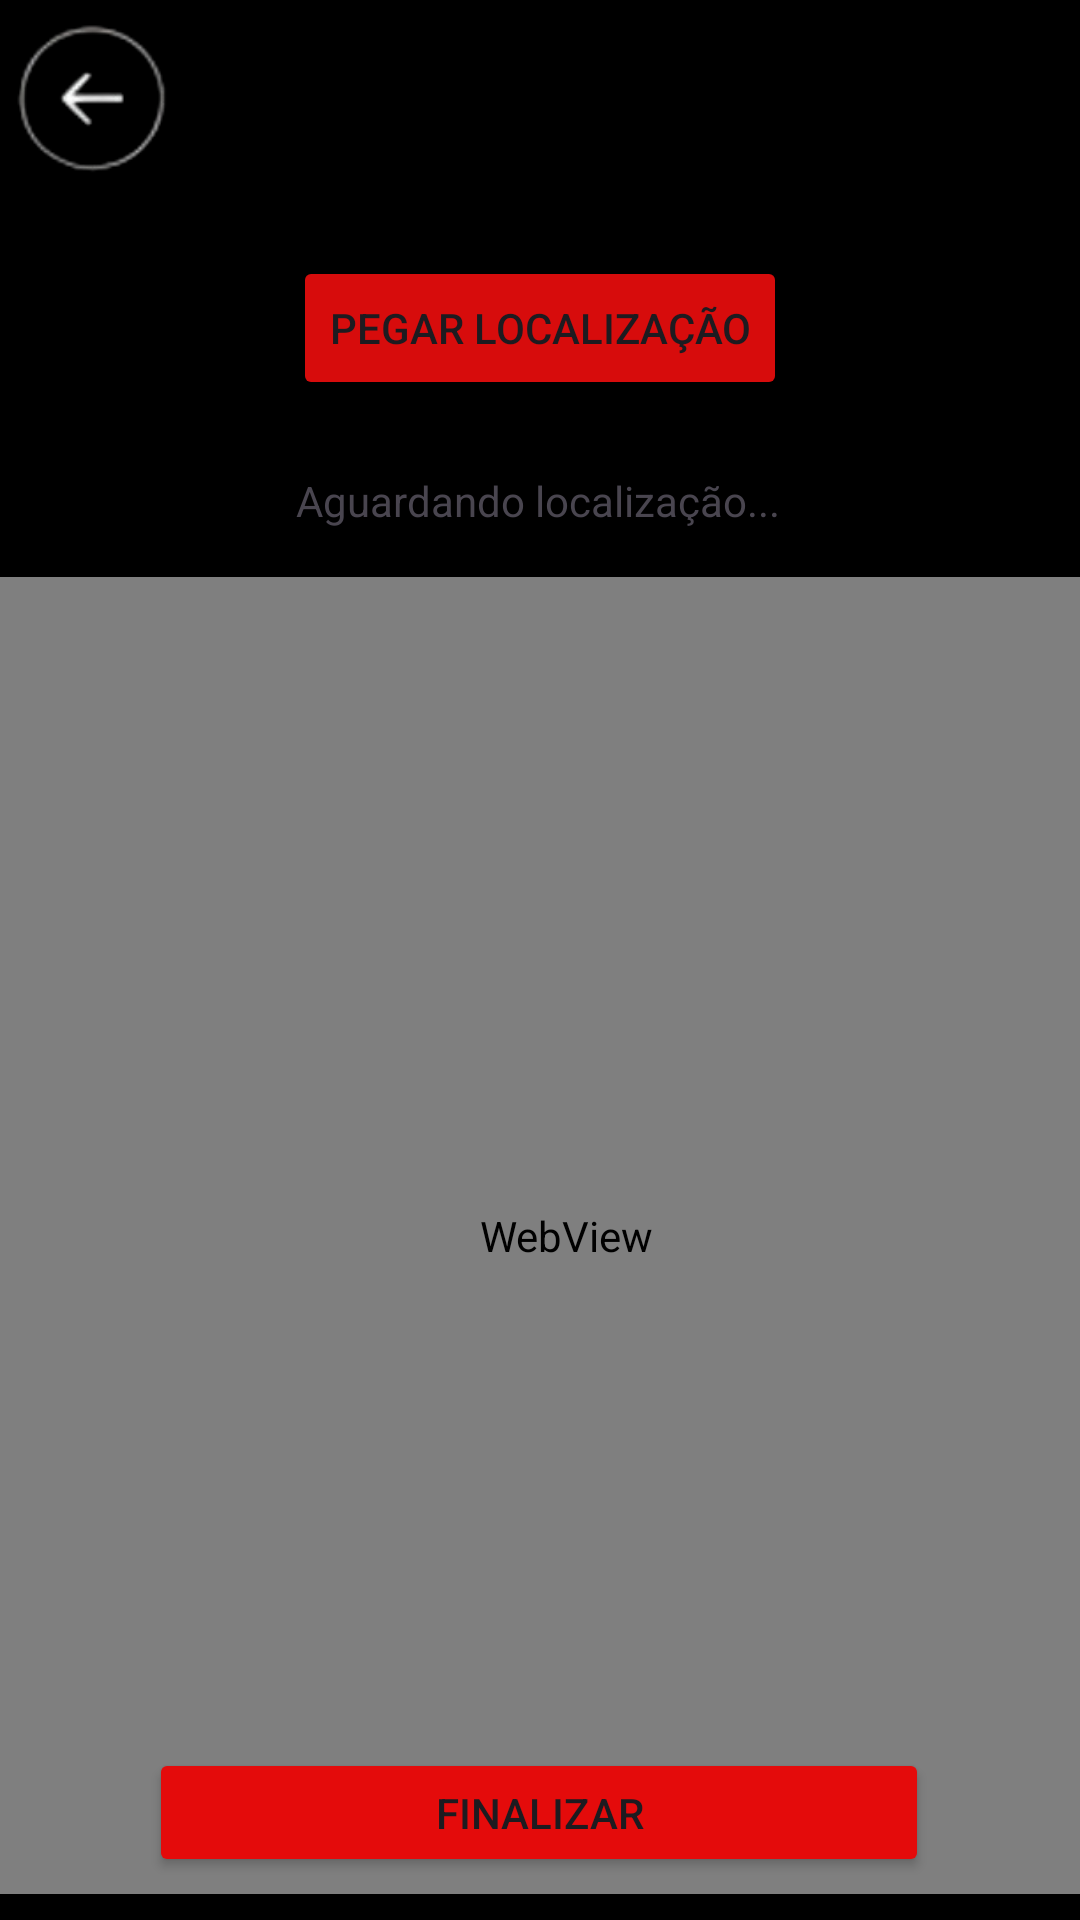

Where icons sit on this 1080*1920 app screen, as detection(x1, y1, x2, y2):
seta: detection(18, 25, 165, 171)
